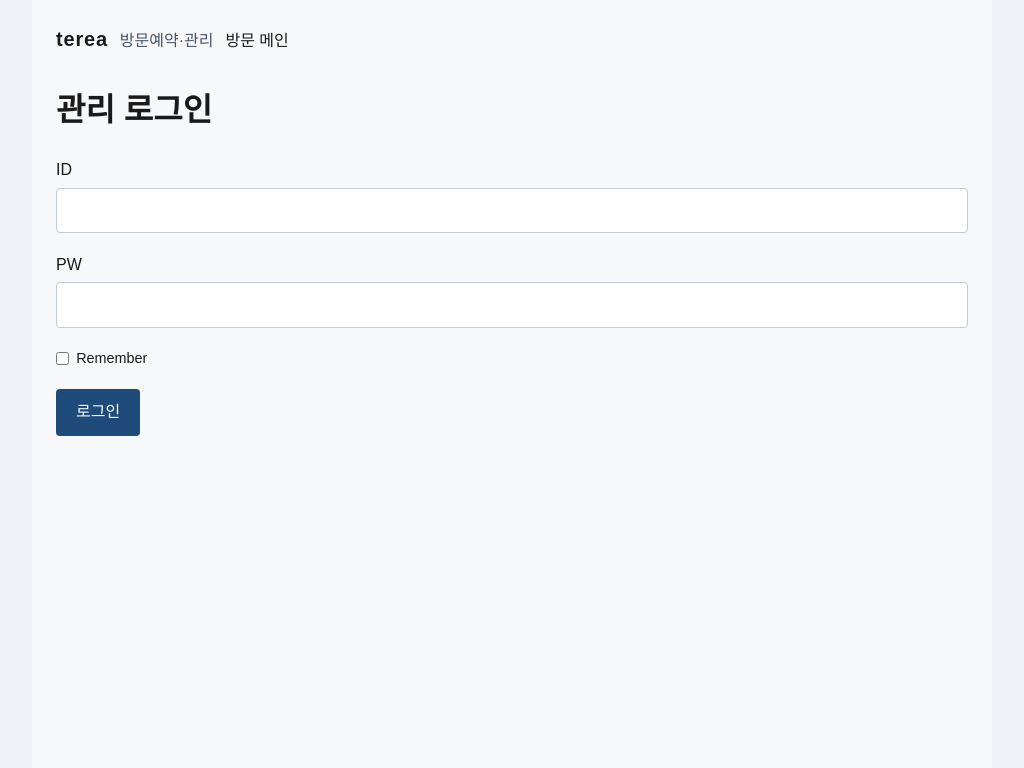
Test: S20: 방문신청 링크 보내기 › 링크 보내기로 전화번호를 넣고 전송하면 로컬 기록·성공 표시가 된다
The image size is (1024, 768).
Type "admin" into the field labelled "ID" at (512, 210), box [56, 188, 968, 233]
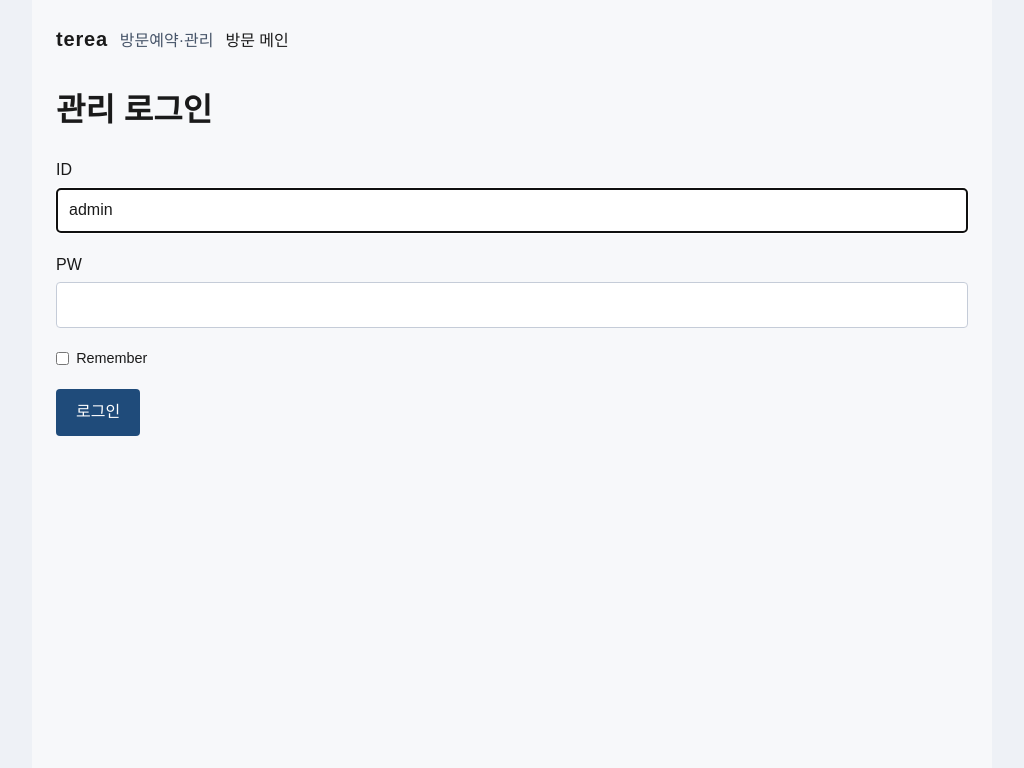
Type "1234" into the password field labelled "PW" at (512, 305), box [56, 282, 968, 328]
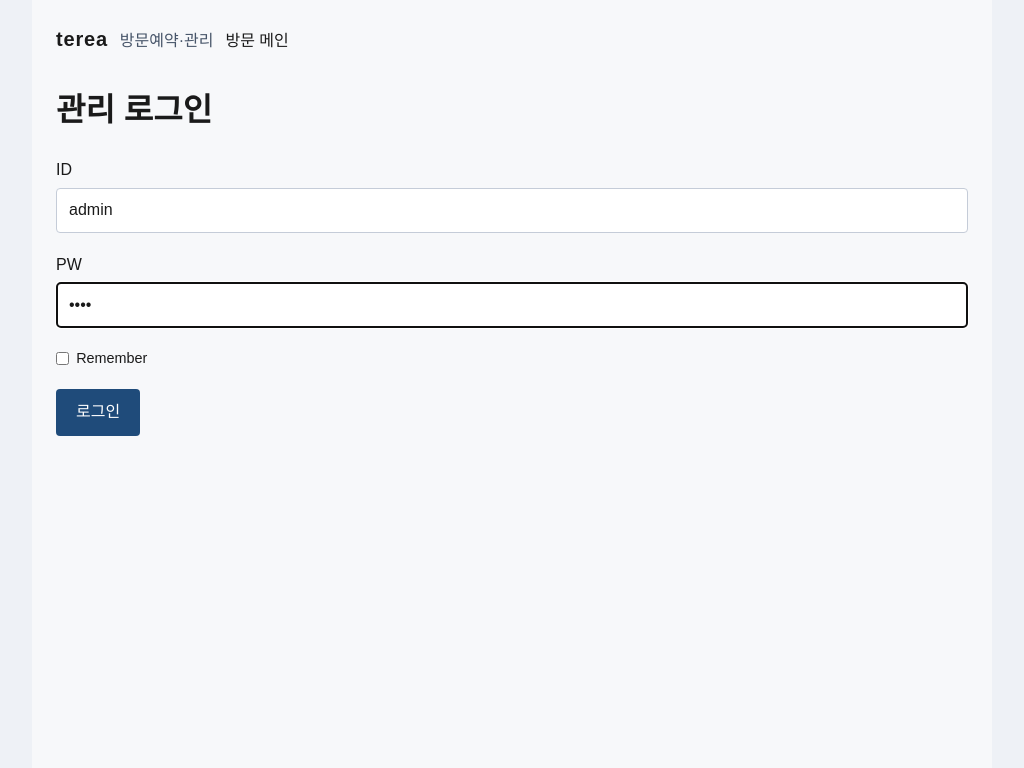
Click the button "로그인" at (98, 412), box [56, 389, 140, 436]
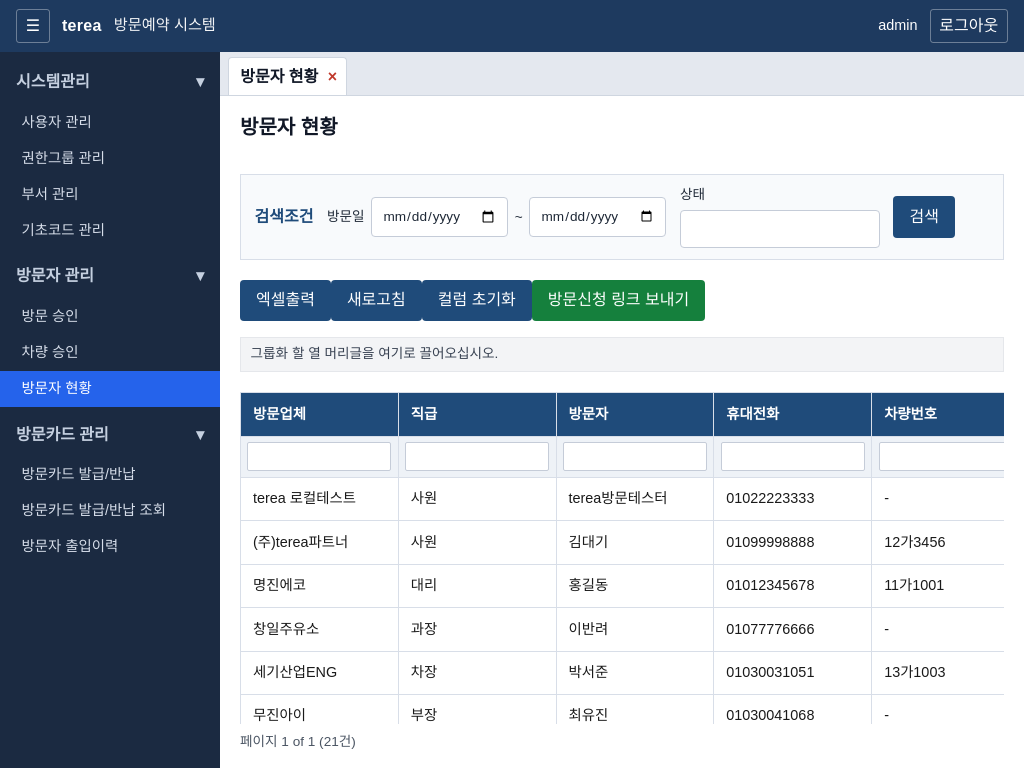
Click the button "방문신청 링크 보내기" at (618, 300), box [532, 280, 705, 321]
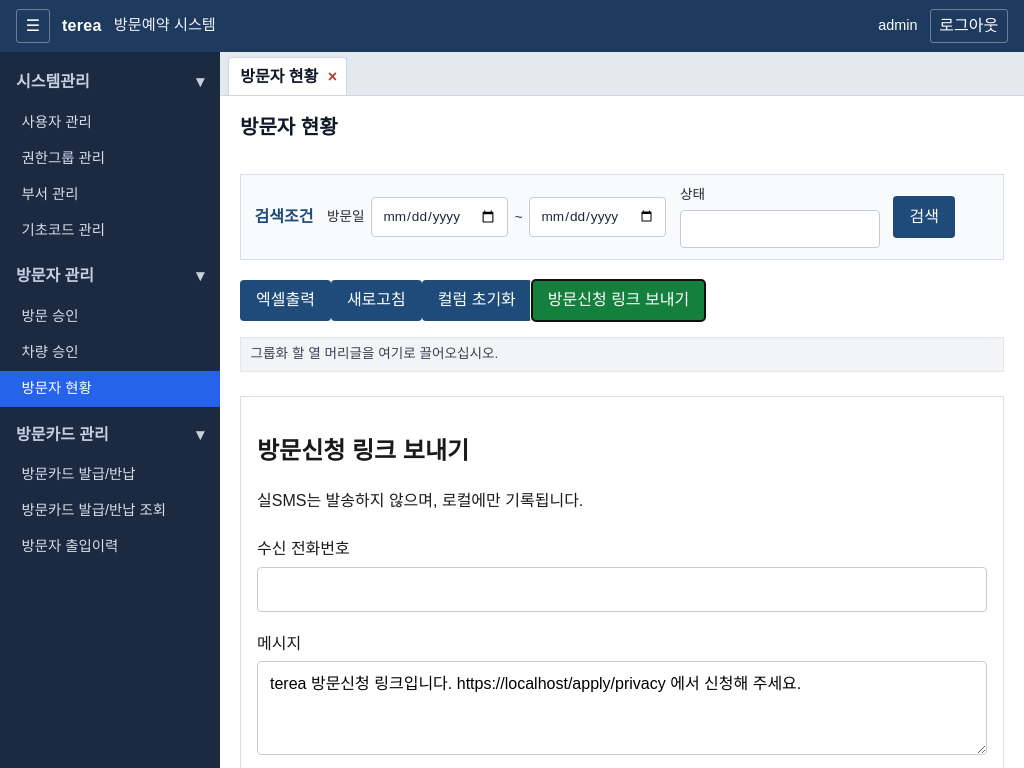
Type "01055556666" into the field labelled "수신 전화번호" at (622, 589), box [257, 567, 987, 612]
(page scrolled)
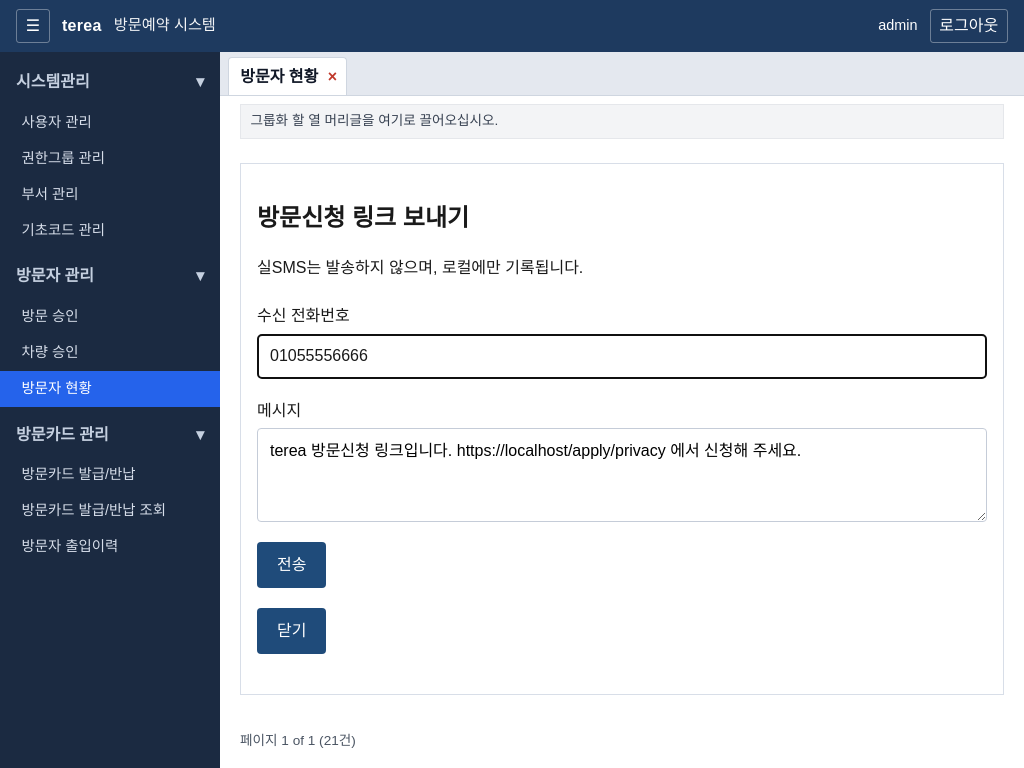
Click the button "전송" at (292, 565), box [257, 542, 326, 588]
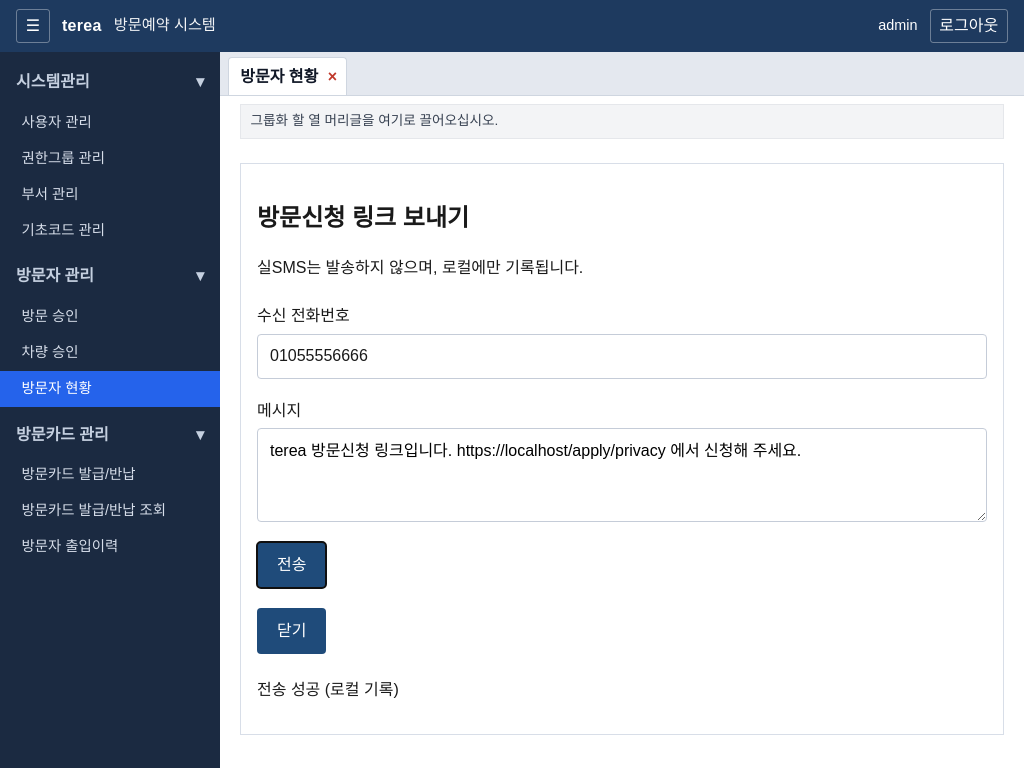
Expected: the text "전송 성공 (로컬 기록)" is shown, [257, 681, 399, 698]
